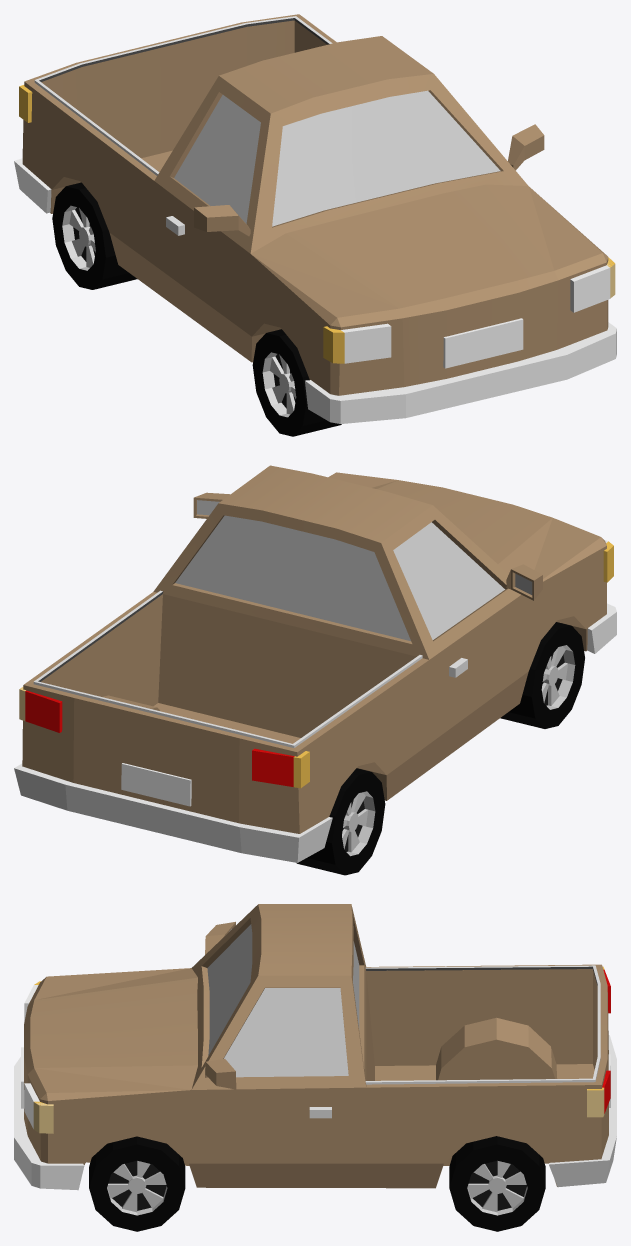
File: Car-04-A.fbx
The picture shows the model from 3 angles, top to bottom: view 1: azimuth 30°, elevation 25°; view 2: azimuth 150°, elevation 25°; view 3: azimuth 270°, elevation 25°; orthographic projection. The views are drawn at different scales.
Parts seen in each view (by area): view 1: Car-04, BR, FR, Headlight, Light-Right; view 2: Car-04, FR, BR, Break-Light, Light-Right; view 3: Car-04, BL, FL, Light-Left, Headlight.
Part boxes in pixels (x1=…): Car-04: x1=14, y1=14, x2=616, y2=423; BR: x1=52, y1=182, x2=137, y2=289; FR: x1=252, y1=329, x2=341, y2=436; Headlight: x1=341, y1=265, x2=610, y2=363; Light-Right: x1=19, y1=85, x2=344, y2=363; Car-04: x1=14, y1=465, x2=616, y2=862; FR: x1=500, y1=622, x2=584, y2=728; BR: x1=296, y1=768, x2=385, y2=875; Break-Light: x1=25, y1=691, x2=293, y2=786; Light-Right: x1=293, y1=541, x2=613, y2=788; Car-04: x1=14, y1=904, x2=616, y2=1190; BL: x1=449, y1=1136, x2=545, y2=1231; FL: x1=89, y1=1136, x2=185, y2=1231; Light-Left: x1=33, y1=1088, x2=604, y2=1133; Headlight: x1=24, y1=985, x2=39, y2=1128.
Bounding box in the file's own units: 2.45 × 1.79 × 4.18.
